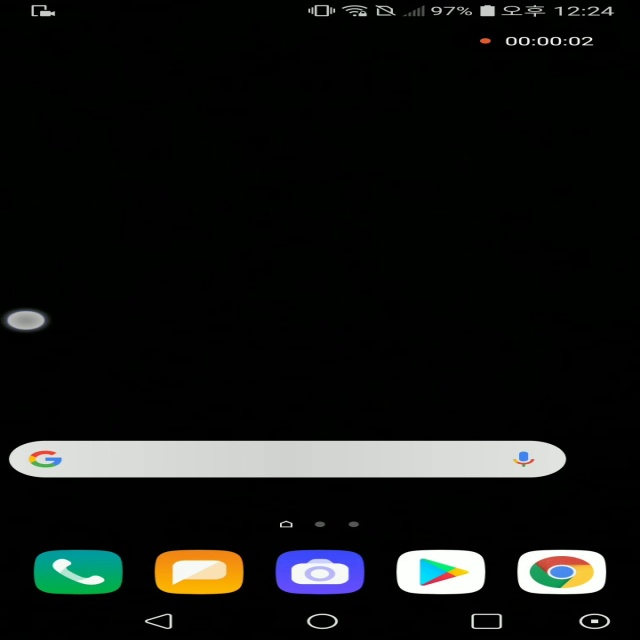Cursor: (5, 310, 49, 332)
